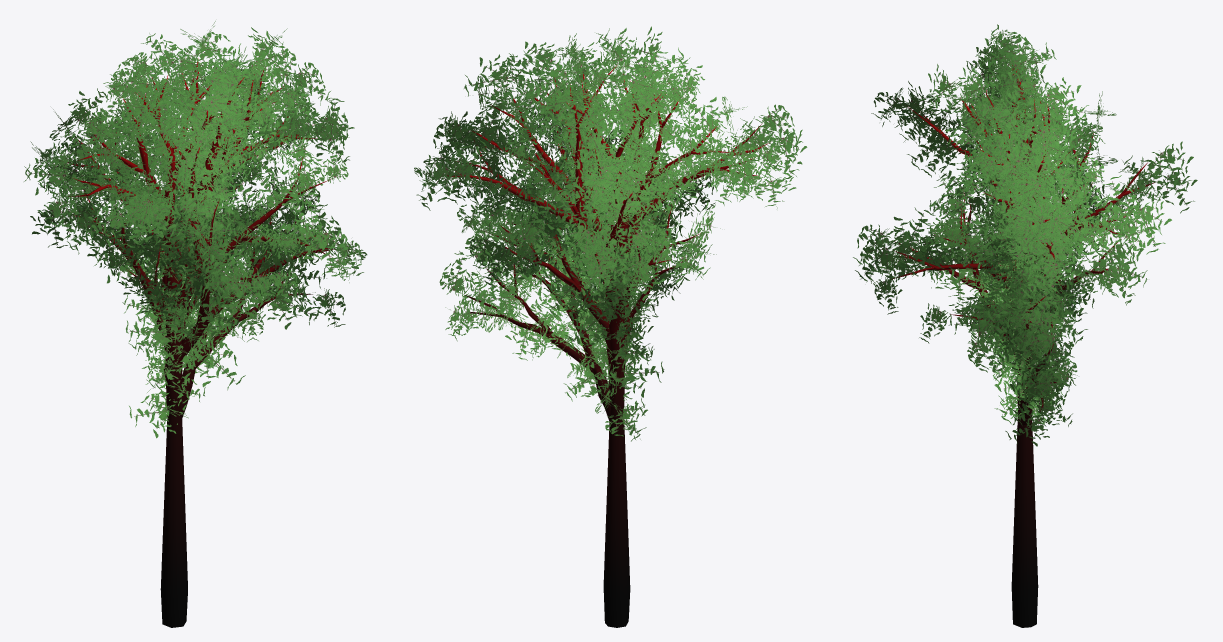
File: Tree_StreetBeechB.fbx
3 views of the same model, side by side, from view 1: azimuth 30°, elevation 25°; view 2: azimuth 150°, elevation 25°; view 3: azimuth 270°, elevation 25° (orthographic). The views are drawn at different scales.
Visible parts, largest first — view 1: StreetBeechB_LOD0; view 2: StreetBeechB_LOD0; view 3: StreetBeechB_LOD0.
Boxes of the visible parts, <box> form: StreetBeechB_LOD0: <box>24,21,367,627</box>; StreetBeechB_LOD0: <box>414,26,807,627</box>; StreetBeechB_LOD0: <box>853,24,1197,627</box>.
Size of what is drawn, in the model's own units: 5.03 by 8.01 by 4.55.
